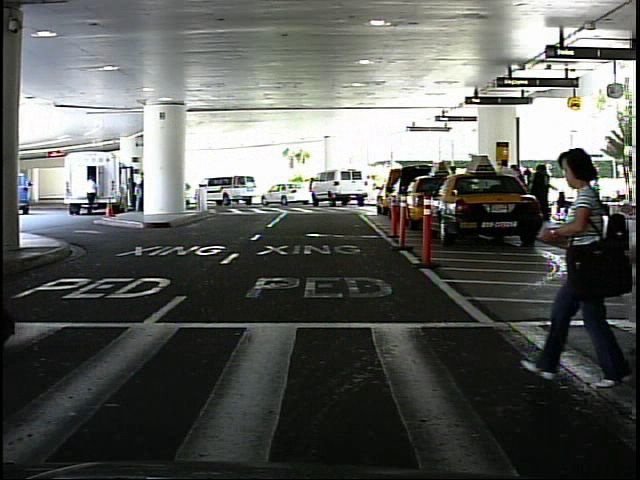person: (546, 138, 635, 396), (84, 173, 102, 218), (366, 171, 379, 205), (597, 172, 598, 218)
